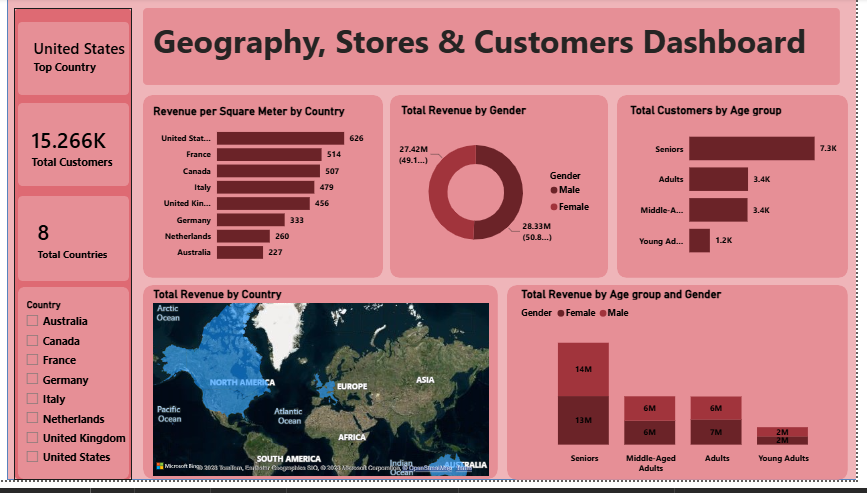

Layout of this report page (visuals, bound fields, positions):
{"tool":"powerbi","page":{"name":"dash 3","canvas":[1280,720],"ordinal":3},"visuals":[{"type":"filledMap","fields":{"Category":["customers.Country"]},"box":[82.2,0,297.3,162.8],"z":0},{"type":"donutChart","fields":{"Y":["Sales.Total Revenue"],"Category":["customers.Gender"]},"box":[907.1,440.1,325.9,262],"z":1000},{"type":"barChart","fields":{"Category":["customers.Age group"],"Y":["customers.Total Customers"]},"box":[52.1,448.5,498.9,243.6],"z":2000},{"type":"columnChart","fields":{"Category":["customers.Age group"],"Y":["Sales.Total Revenue"],"Series":["customers.Gender"]},"box":[561,449,346,244],"z":3000},{"type":"barChart","fields":{"Y":["Stored.Revenue per Square Meter"],"Category":["Stored.Country"]},"box":[561,0,364.5,201.6],"z":4000},{"type":"slicer","fields":{"Values":["Stored.Country"]},"box":[990.4,38.8,288.3,162.8],"z":5000},{"type":"cardVisual","fields":{"Data":["customers.Total Customers"]},"box":[421.6,270.4,277.2,139.4],"z":6000},{"type":"cardVisual","fields":{"Data":["Stored.Top Country"]},"box":[697.1,230.1,304,171.3],"z":7000},{"type":"cardVisual","fields":{"Data":["Stored.Total Countries"]},"box":[1044.8,188.1,235.2,164.6],"z":8000},{"type":"map","fields":{"Category":["customers.Continent"],"Size":["Sales.Gross Profit"]},"box":[82,270,297,150],"z":9000}]}

Visuals, with their boxes in screenshot pixels (x1, y1, x2, y2), scaled from the page's 1280x720 canvas onto the 867x493 screenshot:
filledMap - customers.Country: (56,0,257,111)
donutChart - Sales.Total Revenue x customers.Gender: (614,301,835,481)
barChart - customers.Age group x customers.Total Customers: (35,307,373,474)
columnChart - customers.Age group x Sales.Total Revenue: (380,307,614,475)
barChart - Stored.Revenue per Square Meter x Stored.Country: (380,0,627,138)
slicer - Stored.Country: (671,27,866,138)
cardVisual - customers.Total Customers: (286,185,473,281)
cardVisual - Stored.Top Country: (472,158,678,275)
cardVisual - Stored.Total Countries: (708,129,866,242)
map - customers.Continent x Sales.Gross Profit: (56,185,257,288)
